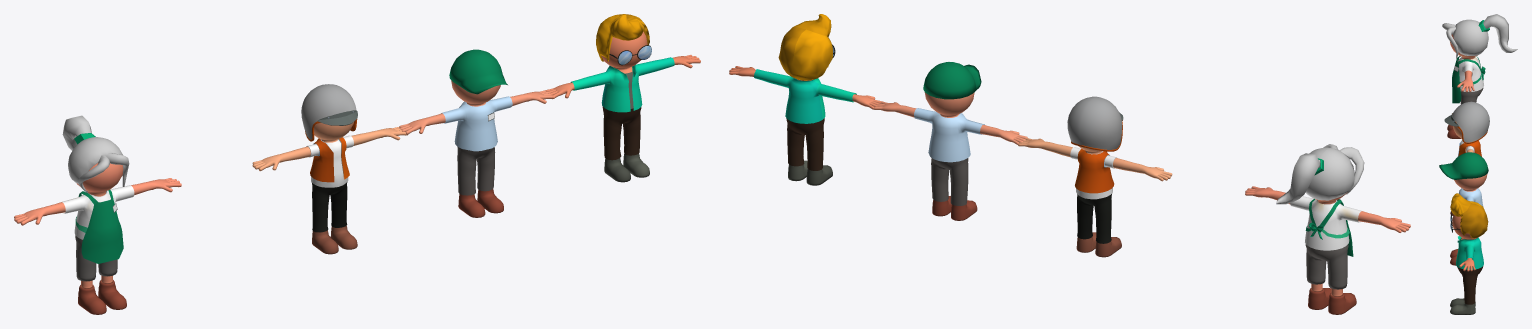
The model's file is SM_Pick_And_Go_All_Characters.fbx.
3 renders of one model, left to right at view 1: azimuth 30°, elevation 25°; view 2: azimuth 150°, elevation 25°; view 3: azimuth 270°, elevation 25°, orthographic. The views are drawn at different scales.
Visible parts, largest first — view 1: Player, Customer, Helper_Carrier, Courier; view 2: Player, Customer, Helper_Carrier, Courier; view 3: Player, Customer, Helper_Carrier, Courier.
Part boxes in pixels (x1,y1,x2,y2): Player: [14, 115, 181, 314]; Customer: [545, 14, 700, 182]; Helper_Carrier: [399, 49, 554, 217]; Courier: [252, 84, 408, 254]; Player: [1245, 144, 1410, 314]; Customer: [729, 14, 882, 185]; Helper_Carrier: [873, 62, 1027, 220]; Courier: [1018, 96, 1172, 257]; Player: [1442, 14, 1517, 138]; Customer: [1450, 193, 1488, 314]; Helper_Carrier: [1439, 152, 1488, 265]; Courier: [1444, 101, 1489, 215].
Size of the model in its own units: 1655 by 391 by 237.
